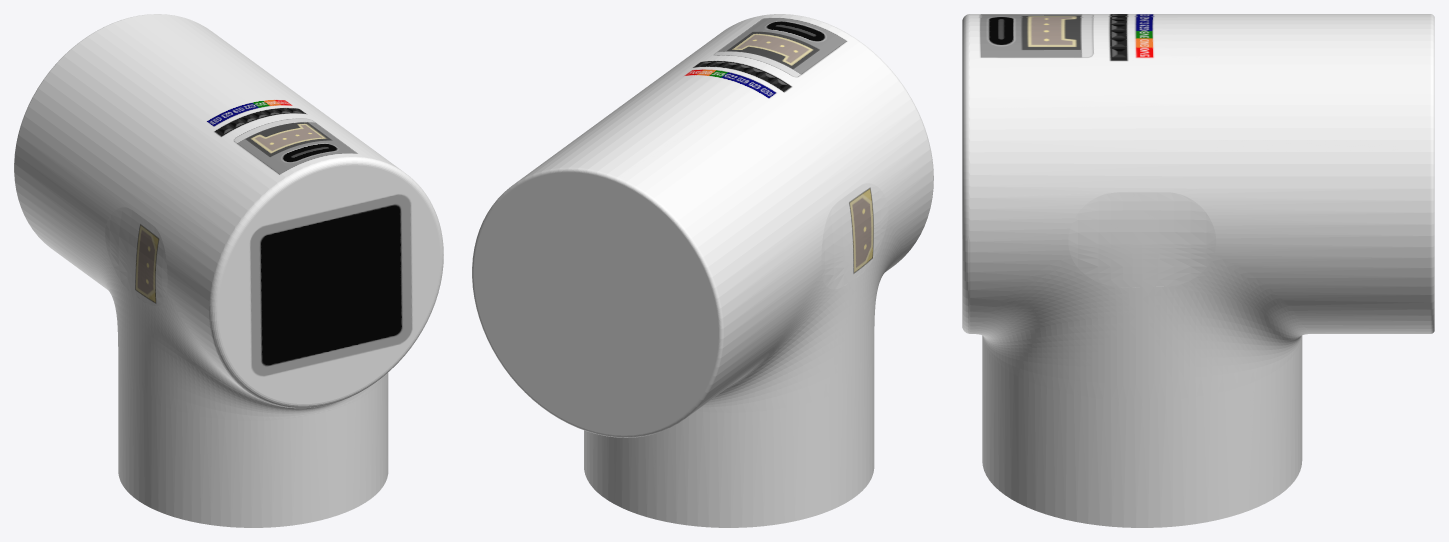
3 renders of one model, left to right at view 1: azimuth 30°, elevation 25°; view 2: azimuth 150°, elevation 25°; view 3: azimuth 270°, elevation 25°, orthographic. The views are drawn at different scales.
Parts seen in each view (by area): view 1: Link6_V1; view 2: Link6_V1; view 3: Link6_V1.
Part boxes in pixels (x1,y1,x2,y2): Link6_V1: (14,14,443,527); Link6_V1: (472,14,933,527); Link6_V1: (962,14,1434,527).
Bounding box in the file's own units: 0.0384 × 0.0567 × 0.0571.
Materials: 1 (1 with a texture image).
